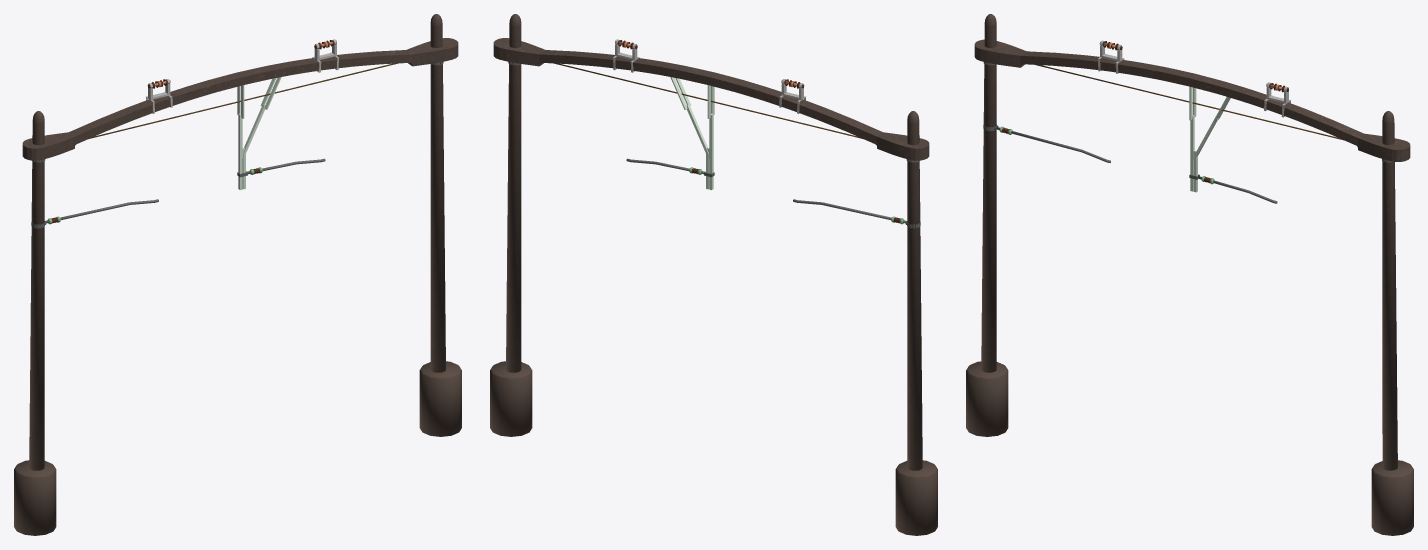
Rendered from bvl_brabant.glb.
3 views of the same model, side by side, from view 1: azimuth 30°, elevation 25°; view 2: azimuth 150°, elevation 25°; view 3: azimuth 330°, elevation 25° (orthographic).
Visible parts, largest first — view 1: Boog; view 2: Boog; view 3: Boog.
Part boxes in pixels (x1,y1,x2,y2): Boog: [14, 14, 461, 535]; Boog: [490, 14, 937, 535]; Boog: [966, 14, 1413, 535].
Bounding box in the file's own units: 3.33 × 2.99 × 0.2755.
Materials: 9 (3 with a texture image).
